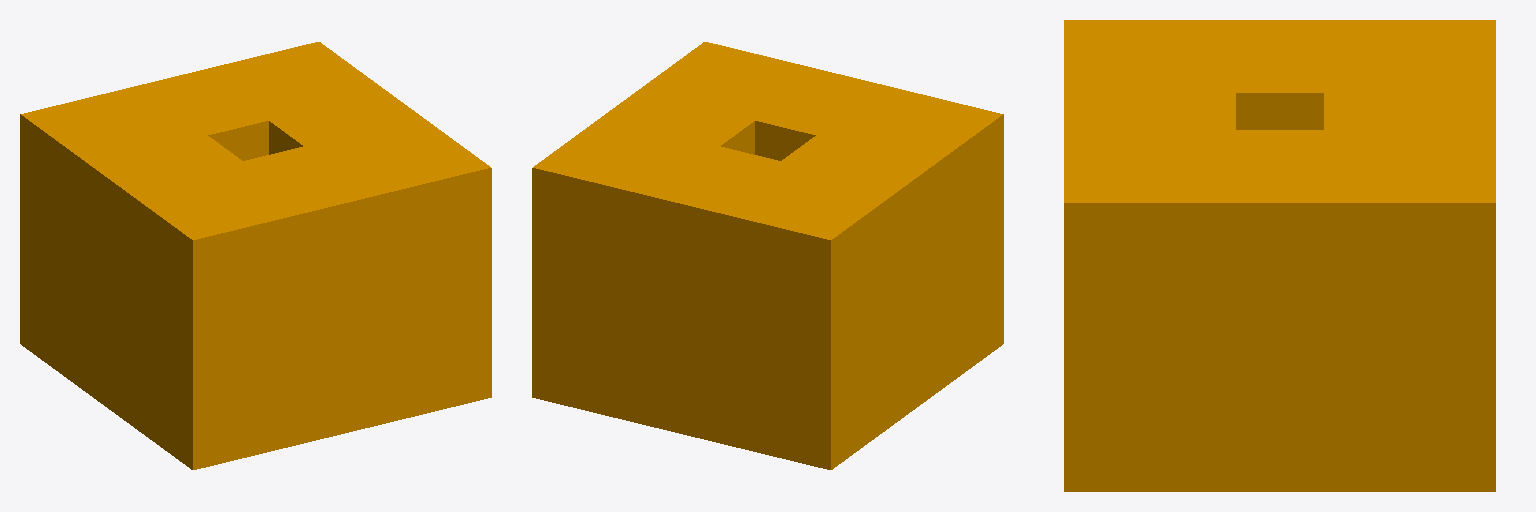
robot.urdf — long_socket_square_0.150:
<?xml version='1.0' encoding='utf-8'?>
<robot name="long_socket_square_0.150">
  <link name="body">
    <inertial>
      <origin xyz="-3.355130238075775e-18 2.168404344971009e-18 0.08076076327096826" />
      <mass value="0.8" />
      <inertia ixx="0.005108353151334715" iyy="0.005108353151334715" izz="0.006699990054152718" ixy="-1.0773002575154104e-19" ixz="-2.185874111181692e-19" iyz="1.6617330568088282e-19" />
    </inertial>
    <collision>
      <geometry>
        <mesh filename="part_00.obj" />
      </geometry>
    </collision>
    <collision>
      <geometry>
        <mesh filename="part_01.obj" />
      </geometry>
    </collision>
    <collision>
      <geometry>
        <mesh filename="part_02.obj" />
      </geometry>
    </collision>
    <collision>
      <geometry>
        <mesh filename="part_03.obj" />
      </geometry>
    </collision>
    <collision>
      <geometry>
        <mesh filename="part_04.obj" />
      </geometry>
    </collision>
    <visual>
      <geometry>
        <mesh filename="visual.obj" />
      </geometry>
    </visual>
  </link>
</robot>

--- Render facts (derived) ---
Views: 3 orthographic renders of the robot side by side, from view 1: azimuth 30°, elevation 25°; view 2: azimuth 150°, elevation 25°; view 3: azimuth 270°, elevation 25°.
Model long_socket_square_0.150 with 1 links and 0 joints (none), rooted at body, posed all joints at 0.
Links seen in each view (by area): view 1: body; view 2: body; view 3: body.
Boxes of the visible links, left/top/right/bottom form: body: left=20, top=42, right=491, bottom=469; body: left=532, top=42, right=1003, bottom=469; body: left=1064, top=20, right=1495, bottom=491.
Bounding box of the posed robot: 0.22 × 0.22 × 0.162 m (x, y, z).
Meshes: 1 distinct files referenced, 1 mesh visuals loaded (1 OBJ).
